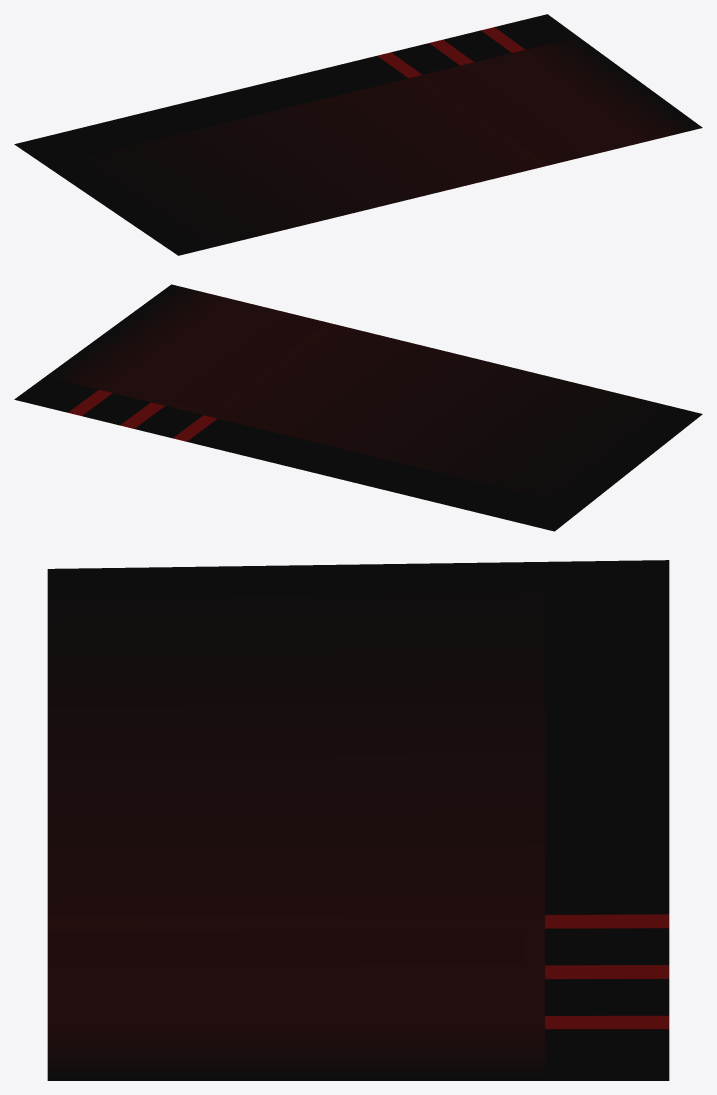
3 renders of one model, top to bottom at view 1: azimuth 30°, elevation 25°; view 2: azimuth 150°, elevation 25°; view 3: azimuth 270°, elevation 25°, orthographic. The views are drawn at different scales.
Parts seen in each view (by area): view 1: Plane.002; view 2: Plane.002; view 3: Plane.002.
Part boxes in pixels (x1,y1,x2,y2): Plane.002: (14, 14, 702, 255); Plane.002: (14, 284, 702, 531); Plane.002: (47, 560, 669, 1080).
Bounding box in the file's own units: 6623 × 13127 × 9.2e-05.
